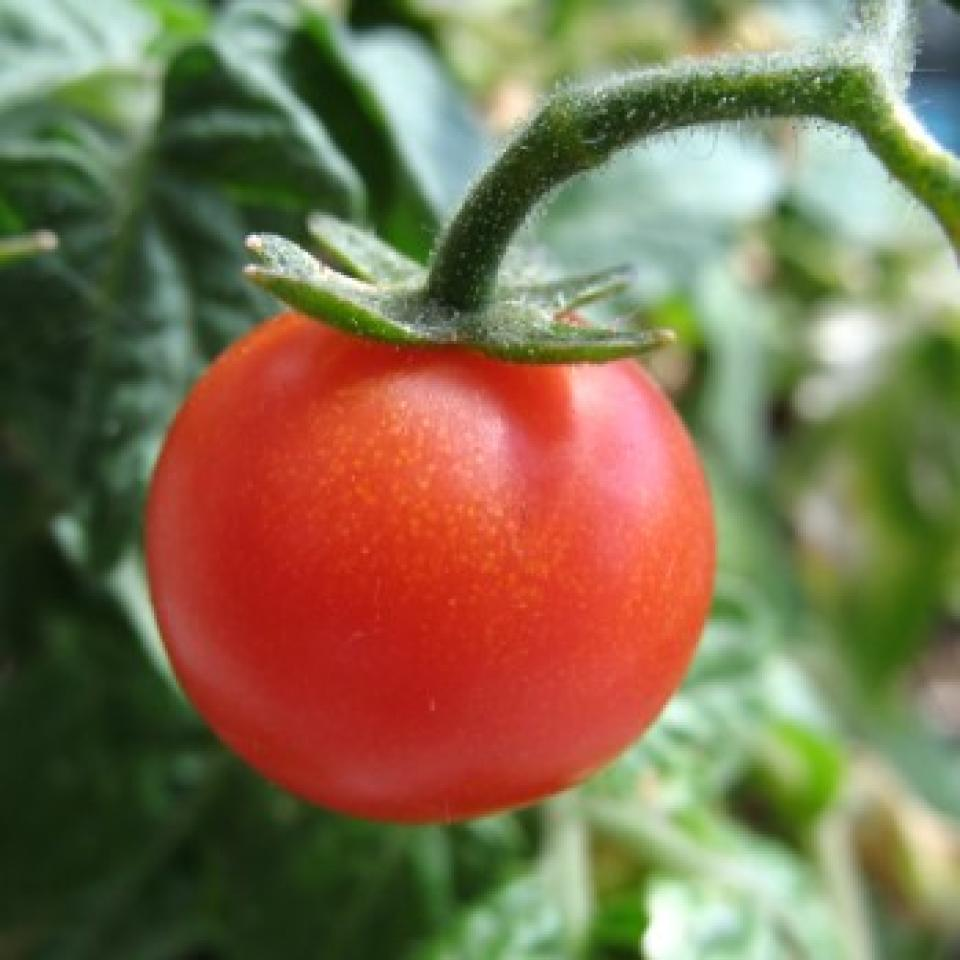Healthy: (154, 282, 721, 794)
